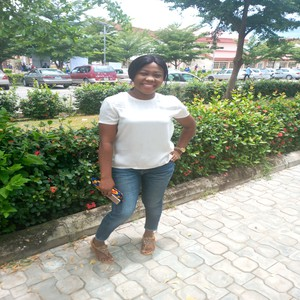Fulokoja_female_student: (101, 53, 172, 259)
